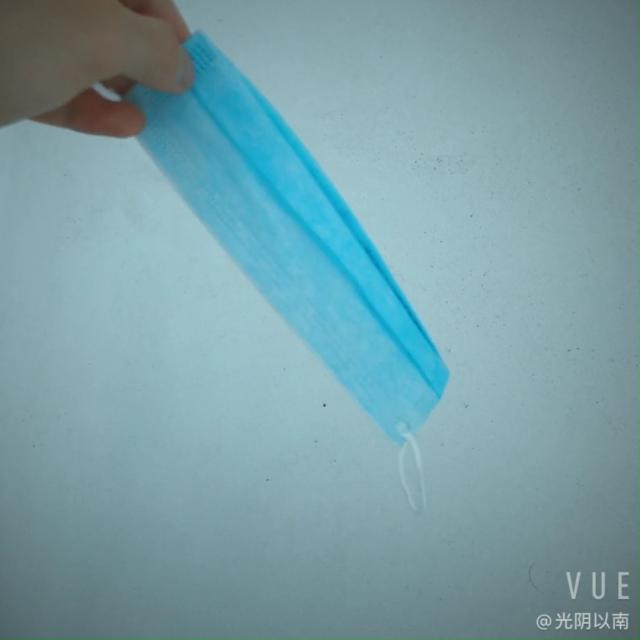non-organic waste: (108, 28, 462, 427)
